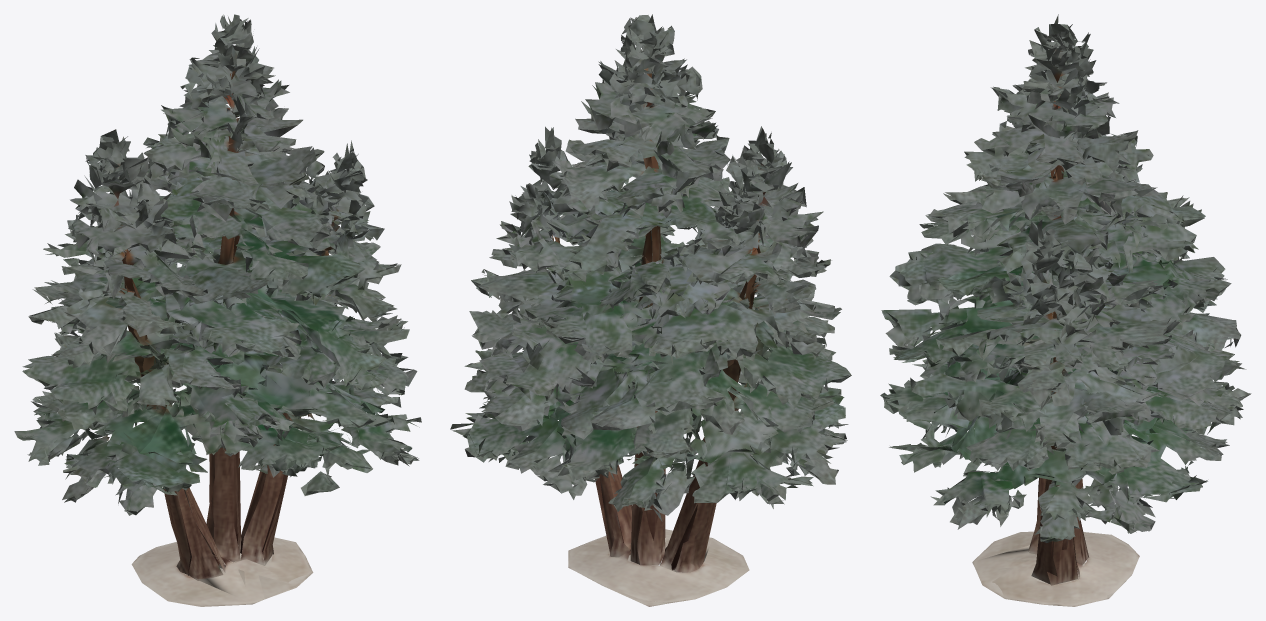
The model's file is unified--fir-grove.glb.
3 views of the same model, side by side, from view 1: azimuth 30°, elevation 25°; view 2: azimuth 150°, elevation 25°; view 3: azimuth 270°, elevation 25° (orthographic).
Visible parts, largest first — view 1: fir-grove-1; view 2: fir-grove-1; view 3: fir-grove-1.
Part boxes in pixels (box(x1,y1,x2,y2)): fir-grove-1: box(14, 14, 421, 606); fir-grove-1: box(450, 14, 851, 606); fir-grove-1: box(880, 14, 1251, 606).
Bounding box in the file's own units: 1.02 × 1.51 × 0.9064.
1 material, 1 textured.
